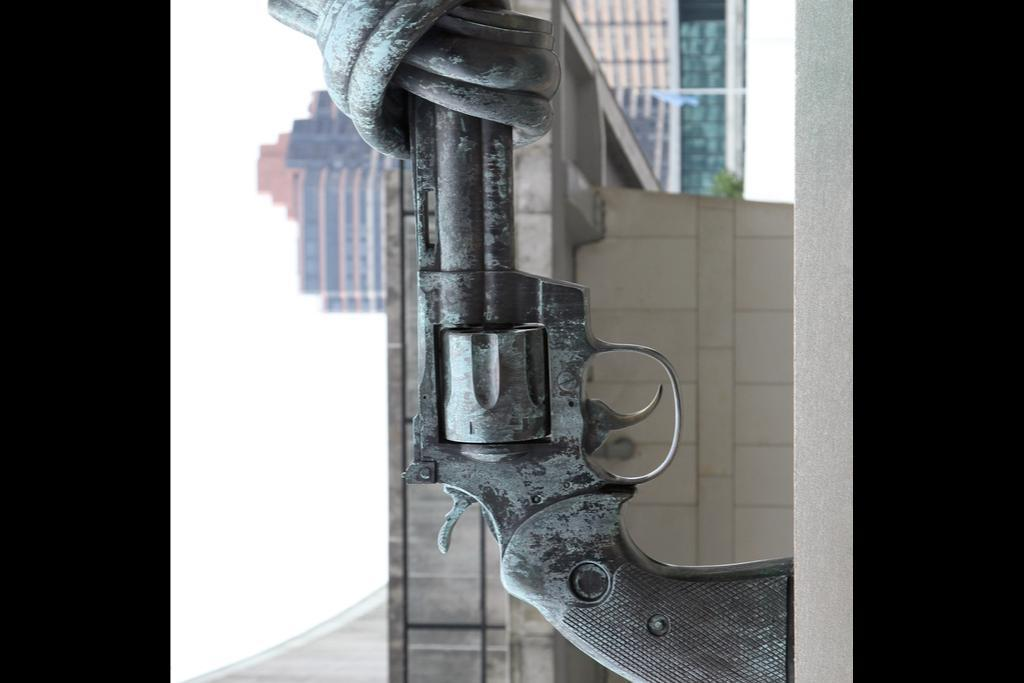gun: (404, 106, 793, 683)
